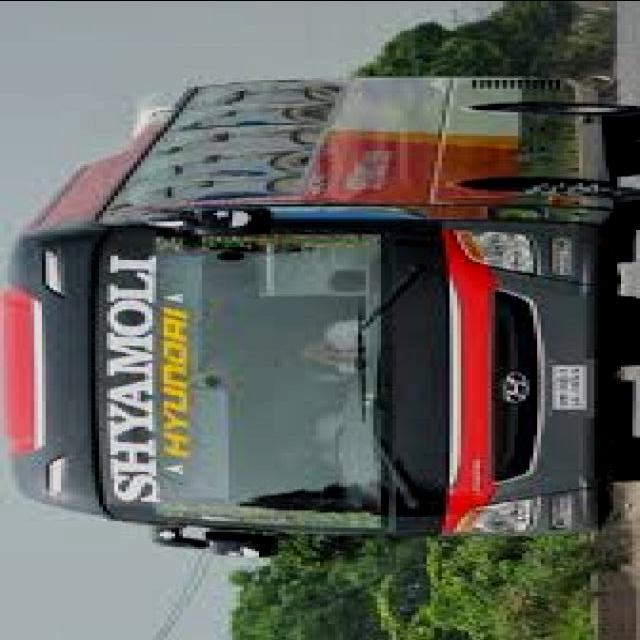bus: (1, 77, 637, 559)
